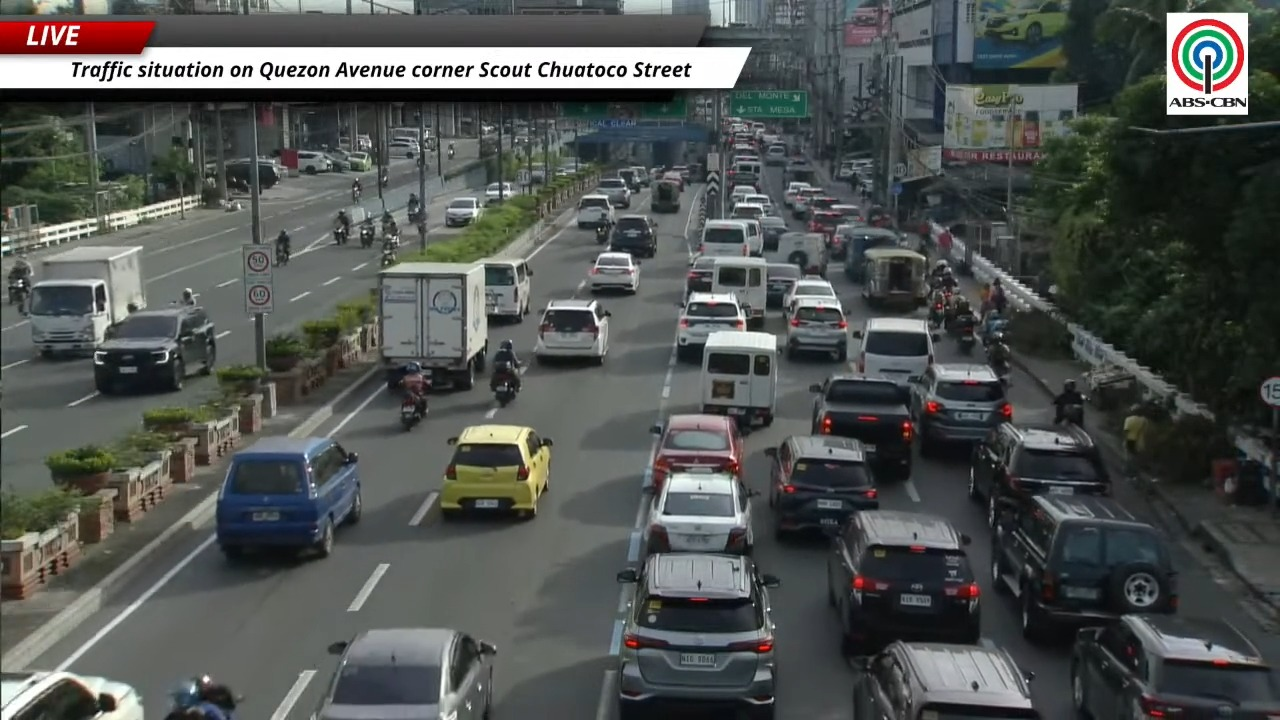car: (616, 553, 779, 719), (991, 495, 1177, 640), (826, 510, 980, 655), (1070, 615, 1279, 719), (215, 436, 361, 560), (312, 627, 496, 719), (853, 642, 1042, 719), (969, 422, 1110, 525), (766, 435, 878, 537), (93, 305, 215, 394), (439, 424, 552, 518), (910, 363, 1012, 456), (643, 469, 753, 554), (650, 414, 744, 492), (0, 668, 143, 719), (534, 299, 610, 364), (676, 292, 746, 360), (785, 297, 848, 362), (980, 0, 1066, 46), (784, 275, 838, 316), (587, 252, 639, 293), (609, 215, 657, 257), (807, 209, 844, 258), (766, 262, 801, 307), (577, 193, 615, 229), (685, 255, 715, 298), (758, 215, 787, 257), (445, 197, 483, 227), (594, 177, 630, 208), (791, 187, 825, 219), (297, 150, 333, 174), (728, 198, 766, 219), (783, 181, 810, 207), (485, 182, 515, 205), (807, 194, 838, 216), (728, 185, 757, 208), (829, 203, 863, 222), (387, 138, 419, 158), (744, 194, 772, 214), (325, 150, 349, 171), (347, 151, 372, 171), (765, 144, 787, 166), (661, 171, 685, 191), (630, 165, 650, 187), (671, 165, 691, 184), (834, 161, 853, 180), (648, 167, 665, 183)
motorcycle: (987, 342, 1011, 383), (400, 397, 422, 430), (8, 277, 29, 309), (494, 379, 517, 408), (1059, 403, 1083, 426), (957, 327, 976, 356), (928, 299, 944, 327), (380, 245, 397, 267), (360, 225, 375, 248), (407, 206, 424, 224), (332, 227, 347, 245), (275, 247, 289, 266), (596, 224, 609, 243), (351, 187, 361, 202), (379, 172, 388, 188), (448, 147, 454, 159)
truck: (379, 262, 488, 390), (28, 246, 145, 356), (810, 374, 914, 478)
